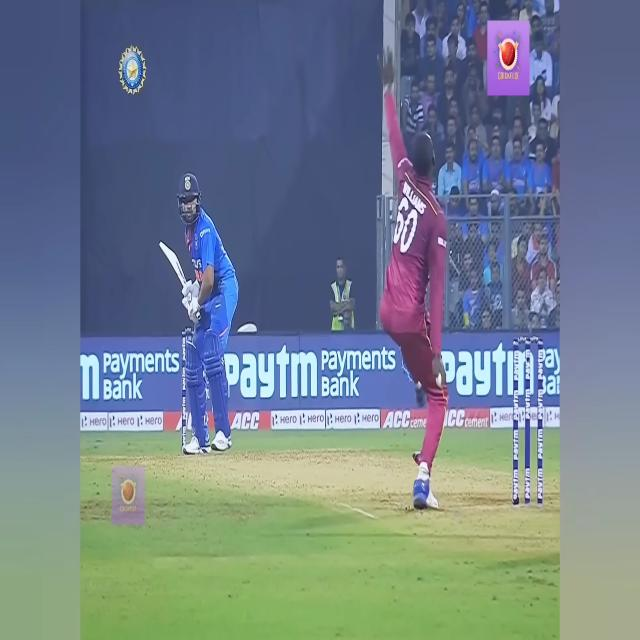partially_visible: (436, 337, 536, 412), (221, 349, 322, 410)
